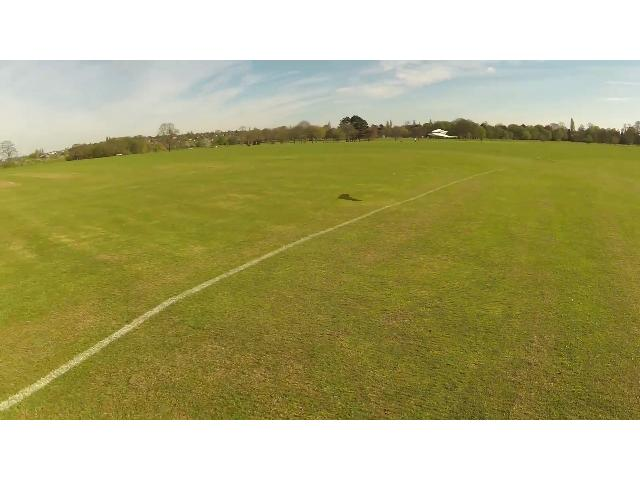Anti-Drone: (417, 118, 459, 150)
